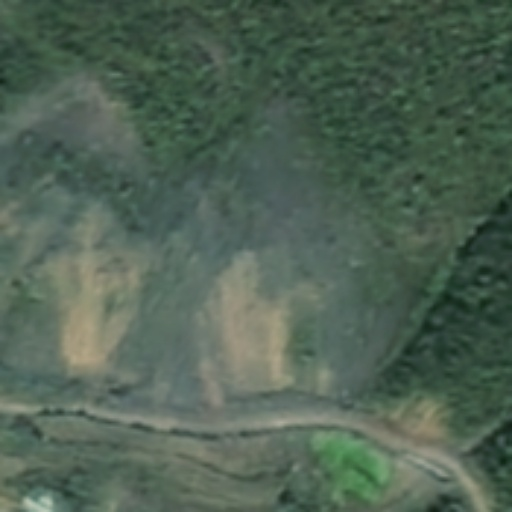landslide: (205, 250, 295, 392), (61, 247, 132, 371)
